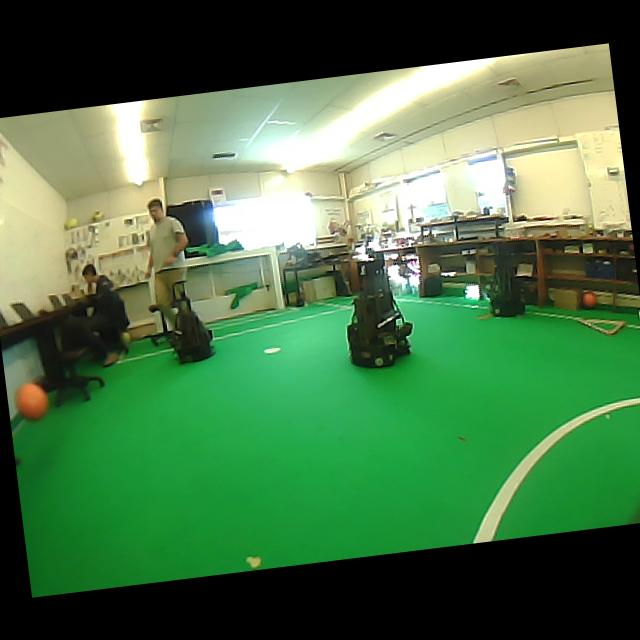ball: (15, 382, 48, 419), (581, 290, 597, 307), (120, 331, 130, 353), (64, 217, 79, 229), (91, 210, 103, 220)
goal: (269, 246, 284, 309)
robot: (346, 258, 412, 366), (170, 281, 211, 362), (489, 242, 525, 316)
